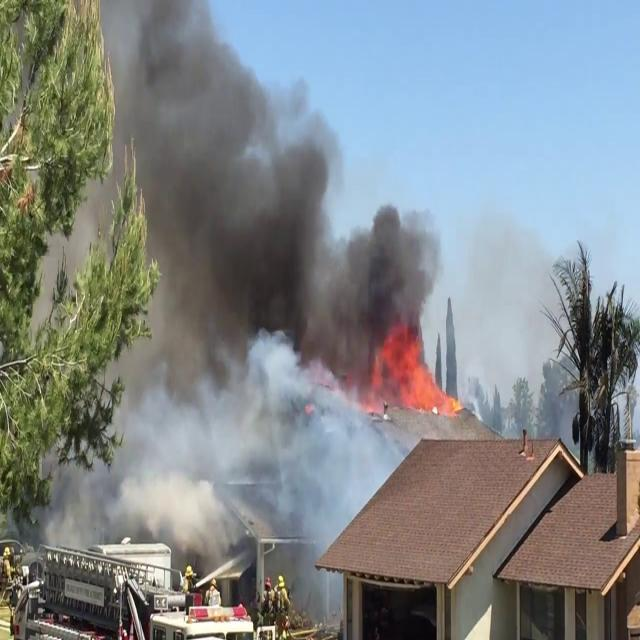Fire: (372, 336, 461, 416)
Smoke: (51, 2, 431, 576)
